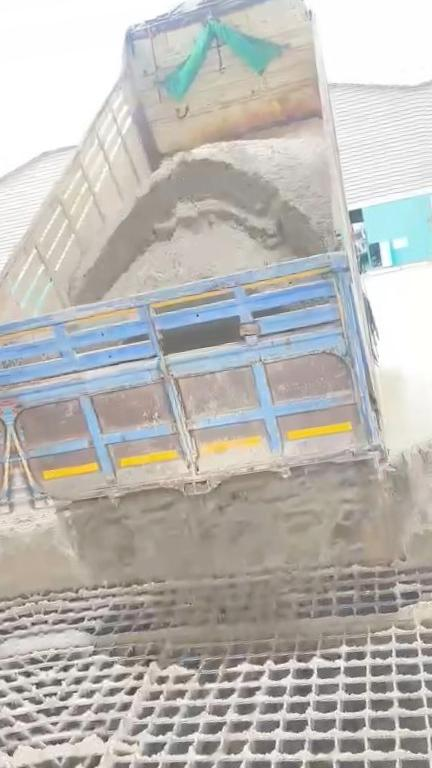sand: (25, 428, 432, 615), (69, 126, 332, 304), (58, 734, 104, 763), (41, 627, 92, 652)
